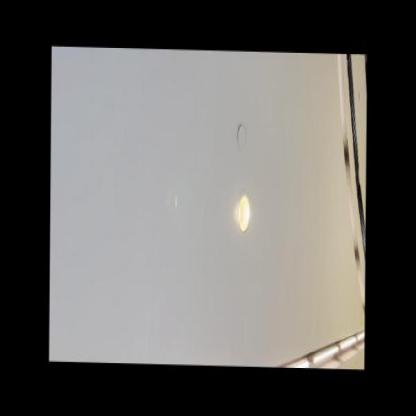light_on: (232, 188, 254, 237), (269, 349, 311, 368), (310, 339, 340, 365), (339, 331, 357, 355), (356, 327, 365, 354)
